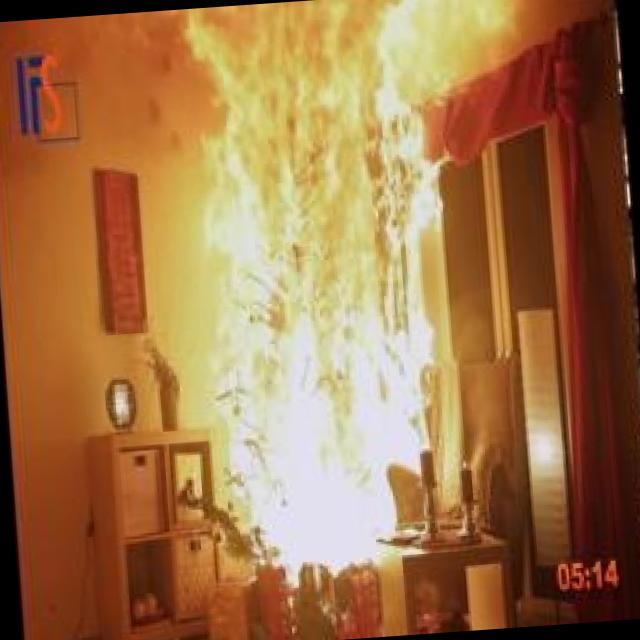fire: (116, 0, 591, 597)
